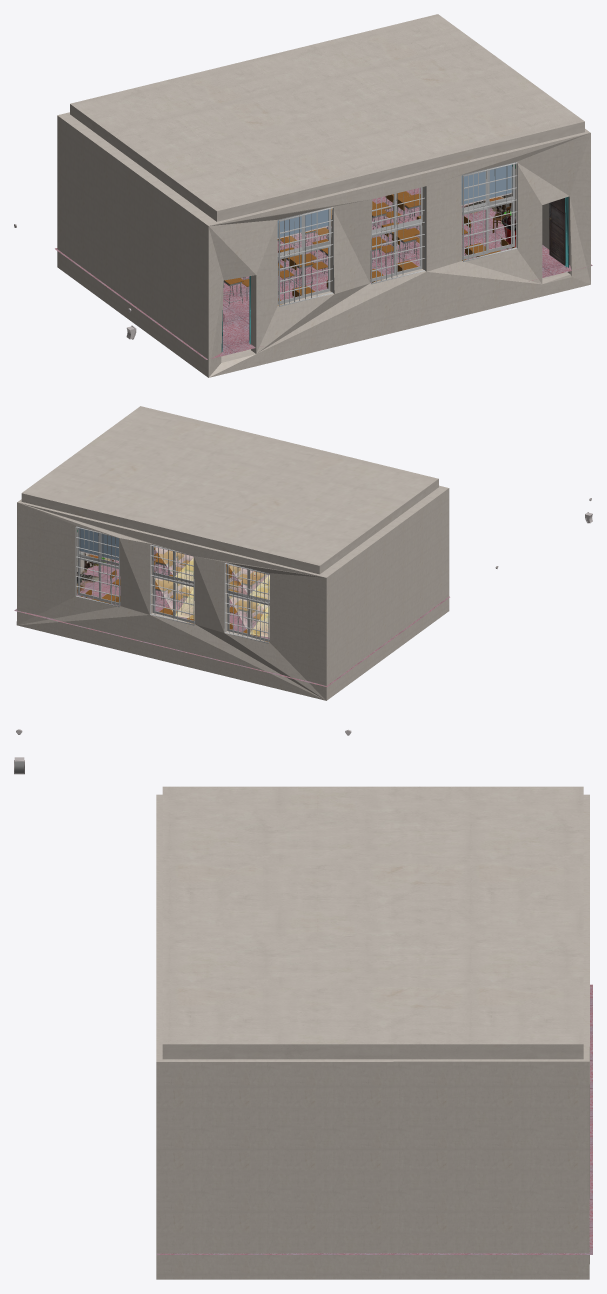
Rendered from classroom.glb.
3 views of the same model, one above another, from view 1: azimuth 30°, elevation 25°; view 2: azimuth 150°, elevation 25°; view 3: azimuth 270°, elevation 25° (orthographic). The views are drawn at different scales.
Parts seen in each view (by area): view 1: MERGED_14, MERGED_15, MERGED_26, MERGED_27, MERGED_35, MERGED_08, MERGED_02; view 2: MERGED_14, MERGED_15, MERGED_26, MERGED_07, MERGED_27, MERGED_35, MERGED_08, MERGED_25; view 3: MERGED_15, MERGED_14.
Boxes of the visible parts, <box> form: MERGED_14: <box>55,112,592,377</box>; MERGED_15: <box>70,14,584,221</box>; MERGED_26: <box>277,162,517,306</box>; MERGED_27: <box>224,191,514,305</box>; MERGED_35: <box>277,164,512,238</box>; MERGED_08: <box>223,198,508,306</box>; MERGED_02: <box>549,198,565,265</box>; MERGED_14: <box>14,485,449,700</box>; MERGED_15: <box>21,406,438,574</box>; MERGED_26: <box>75,526,269,643</box>; MERGED_07: <box>154,547,269,636</box>; MERGED_27: <box>81,547,269,642</box>; MERGED_35: <box>79,528,269,574</box>; MERGED_08: <box>85,552,269,635</box>; MERGED_25: <box>77,532,110,593</box>; MERGED_15: <box>162,786,583,1059</box>; MERGED_14: <box>156,794,592,1279</box>.
Size of the model in its own units: 10.96 by 3.32 by 7.48.
Materials: 50 (38 with a texture image).
